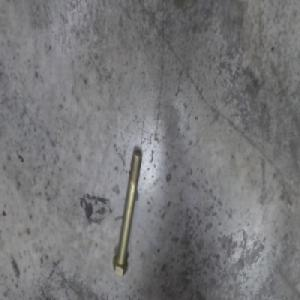Bolt: (113, 150, 144, 273)
